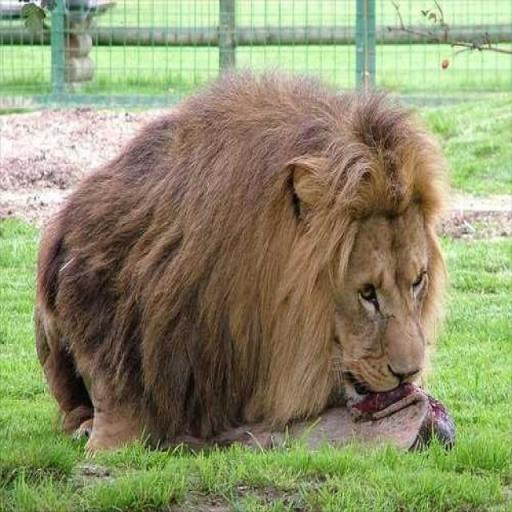Lion: (32, 65, 456, 459)
